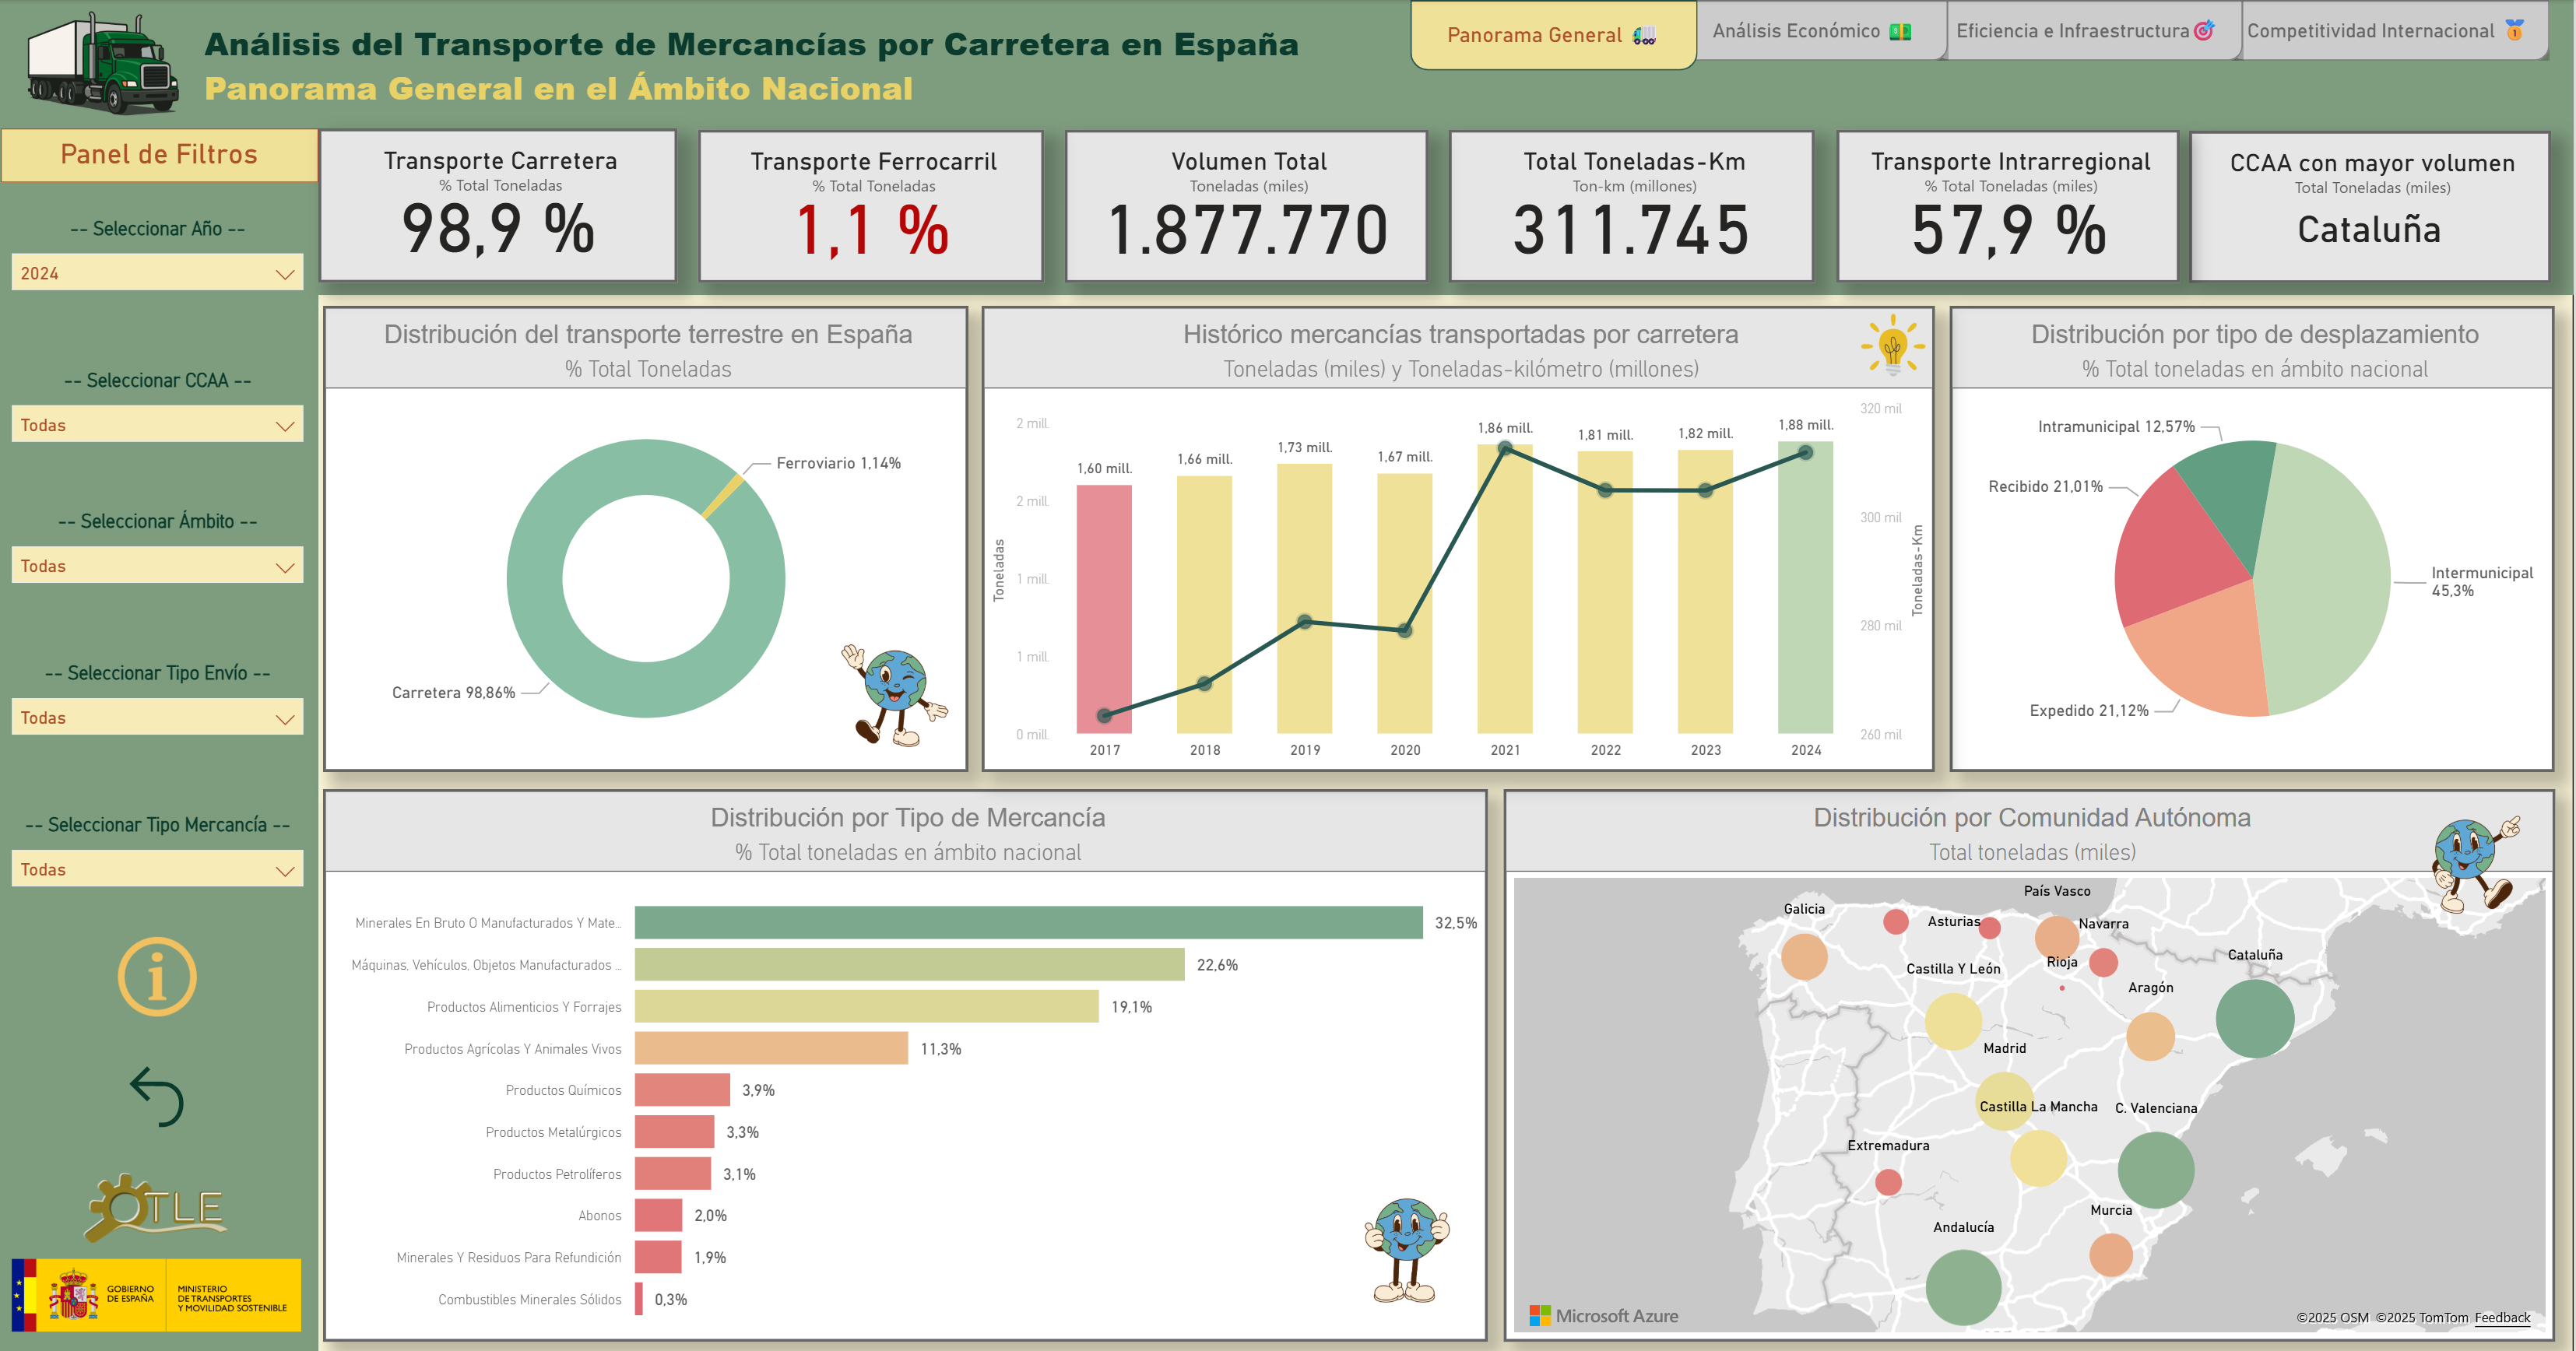

Layout of this report page (visuals, bound fields, positions):
{"tool":"powerbi","page":{"name":"Panorama General","canvas":[1747,920],"ordinal":1},"visuals":[{"type":"group","id":"g1","title":"Panel diseño","box":[0,0,1799.4,919.7],"z":0},{"type":"shape","box":[0,0,1799.4,200.2],"z":0,"group":"g1"},{"type":"lineStackedColumnComboChart","title":"Histórico mercancías transportadas por carretera","fields":{"Category":["Año Dim.Año"],"Y2":["Medidas.Total Ton-km (miles millones)"],"Y":["Medidas.Total Toneladas (miles de millones)"]},"box":[667.9,207.3,645.9,315.9],"z":0,"group":"g2"},{"type":"shape","box":[0,81.2,218.5,838.5],"z":1000,"group":"g1"},{"type":"cardVisual","title":"Total Toneladas-Km","fields":{"Data":["Medidas.Total Tone-km (millones)"]},"box":[984.6,87.9,248.2,104.2],"z":1000},{"type":"image","box":[1257.8,204.6,55.1,57.6],"z":1000,"group":"g2"},{"type":"textbox","box":[135.8,8.5,918.5,77.3],"z":2000,"group":"g1"},{"type":"cardVisual","title":"Volumen Total","fields":{"Data":["Medidas.Total Toneladas(miles)"]},"box":[724.1,88.1,246.4,104],"z":2000},{"type":"slicer","title":"-- Seleccionar Año --","fields":{"Values":["Año Dim.Año"]},"box":[0.9,146.8,217.6,63.9],"z":3000},{"type":"slicer","title":"-- Seleccionar CCAA --","fields":{"Values":["CCAA Dim.CCAA"]},"box":[0.8,250,217.6,56.3],"z":4000},{"type":"slicer","title":"-- Seleccionar Ámbito --","fields":{"Values":["Tipo Envio Dim.Ámbito"]},"box":[0.9,345.5,217.6,63.9],"z":5000},{"type":"slicer","title":"-- Seleccionar Tipo Envío --","fields":{"Values":["Tipo Envio Dim.Tipo Envío"]},"box":[0.9,448.7,217.6,63.9],"z":6000},{"type":"textbox","box":[3.2,87,215.2,36.4],"z":7000},{"type":"donutChart","title":"Distribución del transporte terrestre en España","fields":{"Y":["Medidas.Total Toneladas Modo (miles de millones)"],"Series":["C0519 Transporte Modo - Ambito.Modo Transporte"]},"box":[221.8,207.2,437.2,315.7],"z":8000},{"type":"pieChart","title":"Distribución por tipo de desplazamiento","fields":{"Category":["Dim Tipo Envio.Tipo Envío"],"Y":["Medidas.Total Toneladas (miles de millones)"]},"box":[1323.9,207.5,410.2,315.9],"z":9000},{"type":"clusteredBarChart","title":"Distribución por Tipo de Mercancía","fields":{"Category":["C0280 Tráfico Total.Tipo Mercancía"],"Y":["Medidas General.Total Toneladas (miles)"]},"box":[221.6,534.7,789.3,374.4],"z":10000},{"type":"cardVisual","title":"Transporte Carretera","fields":{"Data":["Medidas.% Ton Carretera","Medidas.% Ton Carretera"]},"box":[218.1,87.2,243.1,104.9],"z":11000},{"type":"cardVisual","title":"Transporte Ferrocarril","fields":{"Data":["Medidas.% Ton Tren"]},"box":[475.3,87.9,234.6,104.2],"z":12000},{"type":"cardVisual","title":"CCAA con mayor volumen","fields":{"Data":["Min(Dim CCAA.CCAA)"]},"box":[1486.3,88.2,245.3,103.6],"z":13000},{"type":"cardVisual","title":"Transporte Intrarregional","fields":{"Data":["Medidas General.% Ton Intrarregional"]},"box":[1247,87.9,232.8,104.2],"z":14000},{"type":"slicer","title":"-- Seleccionar Tipo Mercancía --","fields":{"Values":["C0280 Tráfico Total.Tipo Mercancía"]},"box":[0.9,551.8,217.6,63],"z":16000},{"type":"azureMap","title":"Distribución por Comunidad Autónoma","fields":{"Size":["Medidas.Total Toneladas (miles de millones)"],"Category":["Dim CCAA.CCAA"]},"box":[1021.2,534.7,712.9,374.4],"z":17000},{"type":"shape","box":[1512.6,0,218.2,41.2],"z":18000},{"type":"image","box":[4,846.7,208.9,62.5],"z":19000},{"type":"image","box":[3.6,789.6,208.6,57.6],"z":20000},{"type":"shape","box":[1313.1,0,209.8,41.2],"z":21000},{"type":"shape","box":[1140.7,0,181.7,41.2],"z":22000},{"type":"actionButton","box":[82.4,715.5,53.4,56.2],"z":23000},{"type":"shape","box":[958.1,0,194.8,47.8],"z":24000},{"type":"image","box":[4,2.4,136.9,80.7],"z":25000},{"type":"image","box":[76.8,629.4,64.6,66.5],"z":26000},{"type":"image","box":[567.7,430.9,83,81.1],"z":27000},{"type":"image","box":[921.9,804.7,68.8,83.9],"z":28000},{"type":"image","box":[1645.2,545.5,71,83.6],"z":29000},{"type":"group","id":"g2","title":"Viz 1","box":[667.9,204.6,645.9,318.6],"z":30000}]}

Visuals, with their boxes in screenshot pixels (x1, y1, x2, y2), scaled from the page's 1747x920 canvas onto the 2576x1351 screenshot:
"Panel diseño" group: 0 0 2575 1350
shape: 0 0 2575 294
"Histórico mercancías transportadas por carretera" lineStackedColumnComboChart: 985 304 1937 768
shape: 0 119 322 1350
"Total Toneladas-Km" cardVisual: 1452 129 1818 282
image: 1854 300 1936 385
textbox: 200 12 1555 126
"Volumen Total" cardVisual: 1068 129 1431 282
"-- Seleccionar Año --" slicer: 2 216 322 310
"-- Seleccionar CCAA --" slicer: 2 367 322 450
"-- Seleccionar Ámbito --" slicer: 2 507 322 602
"-- Seleccionar Tipo Envío --" slicer: 2 659 322 753
textbox: 5 128 322 181
"Distribución del transporte terrestre en España" donutChart: 327 304 972 768
"Distribución por tipo de desplazamiento" pieChart: 1952 305 2557 769
"Distribución por Tipo de Mercancía" clusteredBarChart: 327 785 1491 1335
"Transporte Carretera" cardVisual: 322 128 680 282
"Transporte Ferrocarril" cardVisual: 701 129 1047 282
"CCAA con mayor volumen" cardVisual: 2191 129 2553 282
"Transporte Intrarregional" cardVisual: 1839 129 2182 282
"-- Seleccionar Tipo Mercancía --" slicer: 2 810 322 903
"Distribución por Comunidad Autónoma" azureMap: 1506 785 2557 1335
shape: 2230 0 2552 61
image: 6 1244 314 1335
image: 5 1160 313 1244
shape: 1936 0 2246 61
shape: 1682 0 1950 61
actionButton: 121 1051 200 1133
shape: 1413 0 1700 70
image: 6 4 208 122
image: 113 925 209 1022
image: 837 633 959 752
image: 1359 1181 1460 1305
image: 2426 801 2531 924
"Viz 1" group: 985 300 1937 768
